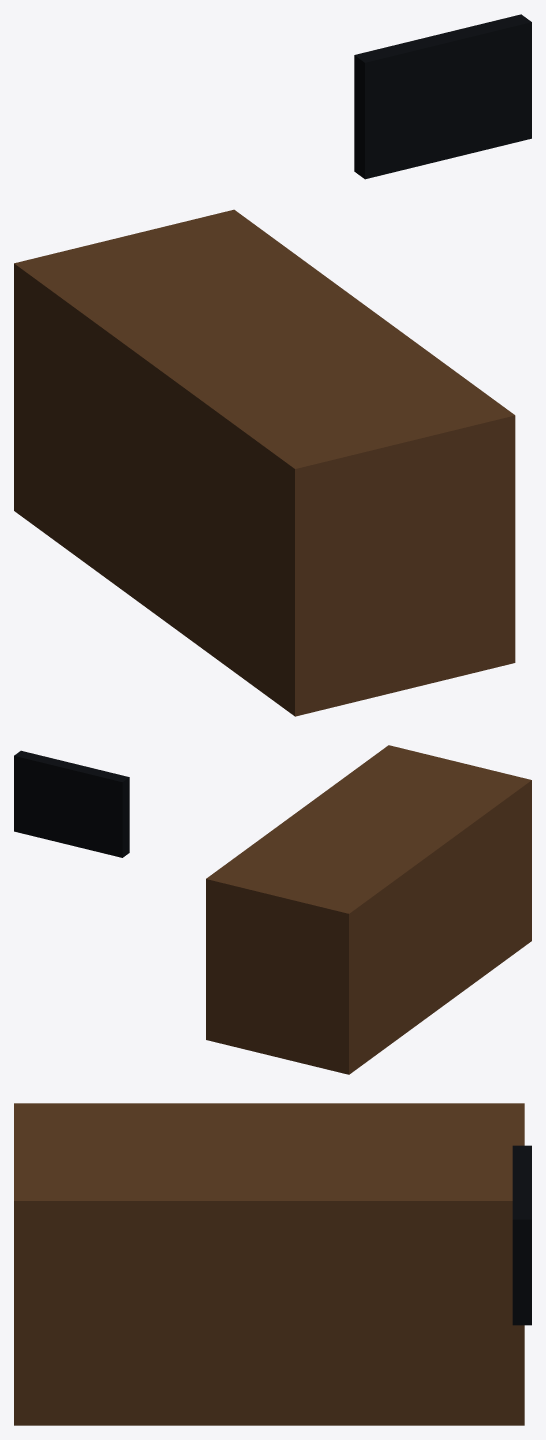
Rendered from cover.subroom_desk_corner.glb.
3 views of the same model, one above another, from view 1: azimuth 30°, elevation 25°; view 2: azimuth 150°, elevation 25°; view 3: azimuth 270°, elevation 25° (orthographic). The views are drawn at different scales.
Parts seen in each view (by area): view 1: desk_return_cover, desk_screen; view 2: desk_return_cover, desk_screen; view 3: desk_return_cover, desk_screen.
Boxes of the visible parts, <box> form: desk_return_cover: <box>14,209,515,716</box>; desk_screen: <box>354,14,531,179</box>; desk_return_cover: <box>206,745,531,1074</box>; desk_screen: <box>14,750,129,857</box>; desk_return_cover: <box>14,1103,524,1425</box>; desk_screen: <box>512,1145,531,1325</box>.
Size of what is drawn, in the model's own units: 2.21 by 1.52 by 2.13.
